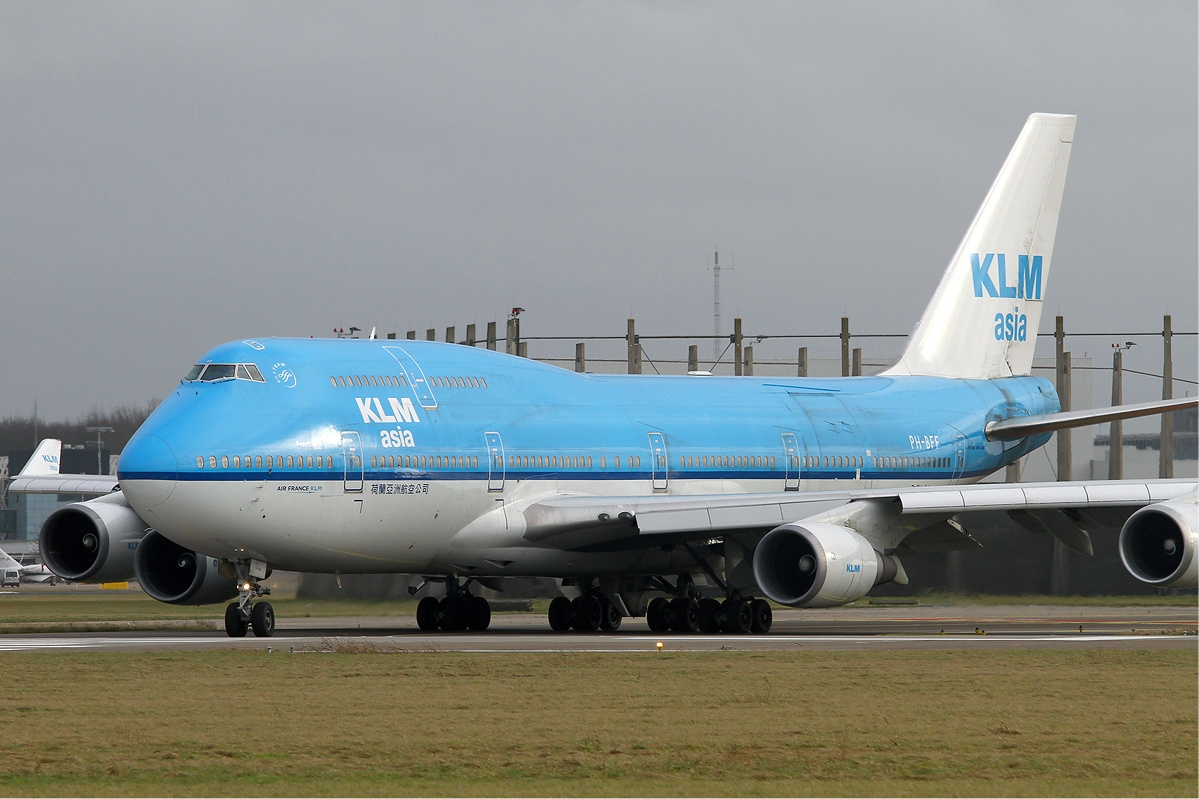aeroplane: (41, 113, 1180, 643)
